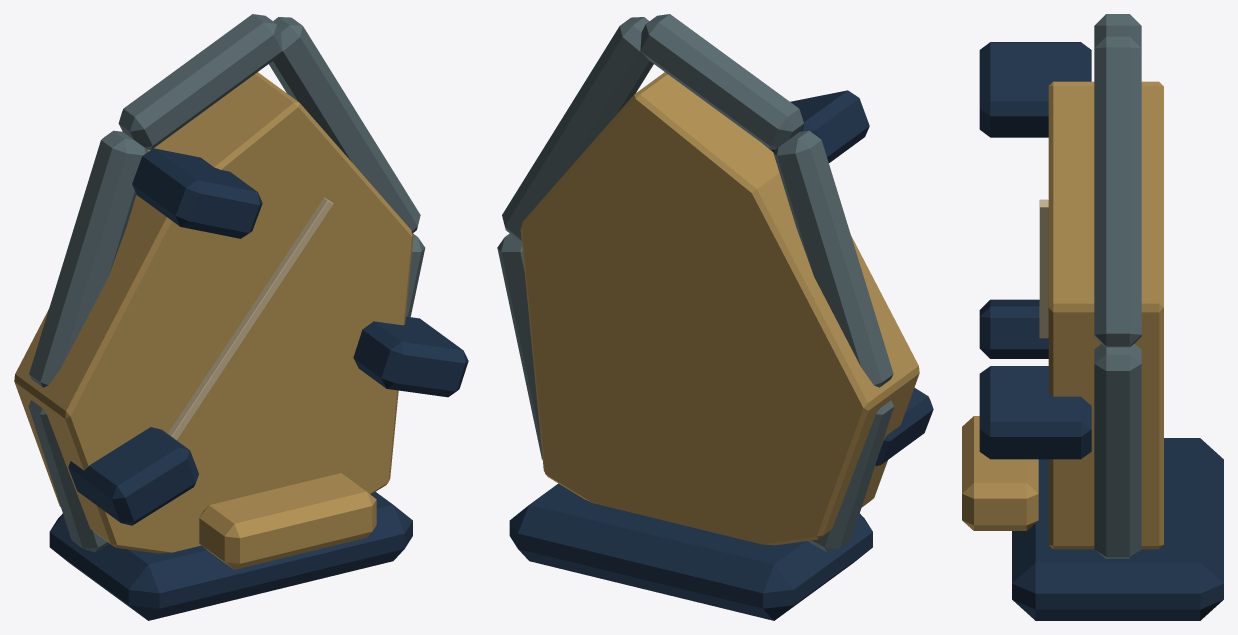
Rendered from LIGHT_SHIELD_CELL.lo.glb.
3 views of the same model, side by side, from view 1: azimuth 30°, elevation 25°; view 2: azimuth 150°, elevation 25°; view 3: azimuth 270°, elevation 25° (orthographic). The views are drawn at different scales.
Parts seen in each view (by area): view 1: Body_Mesh; view 2: Body_Mesh; view 3: Body_Mesh.
Boxes of the visible parts, left/top/right/bottom form: Body_Mesh: left=14, top=14, right=468, bottom=620; Body_Mesh: left=497, top=14, right=933, bottom=620; Body_Mesh: left=962, top=14, right=1223, bottom=620.
Size of the model in its own units: 0.7868 by 1.05 by 0.445.
